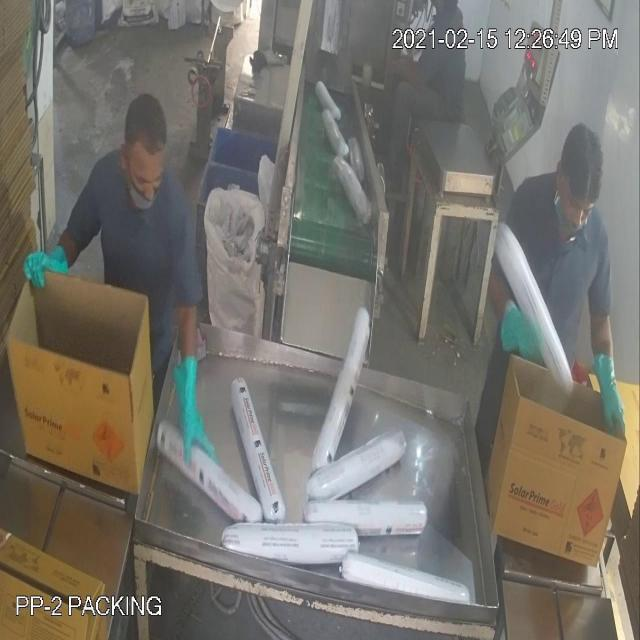No_Gloves: (39, 56, 607, 398)
